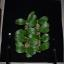leaf: (26, 28, 38, 38), (14, 28, 25, 38), (38, 24, 50, 33), (26, 46, 36, 56), (15, 40, 26, 48), (17, 34, 28, 42), (38, 42, 49, 50), (27, 11, 35, 21), (38, 16, 48, 24), (28, 38, 38, 46), (15, 18, 26, 25), (16, 46, 26, 53), (40, 34, 50, 41), (28, 20, 37, 27)
